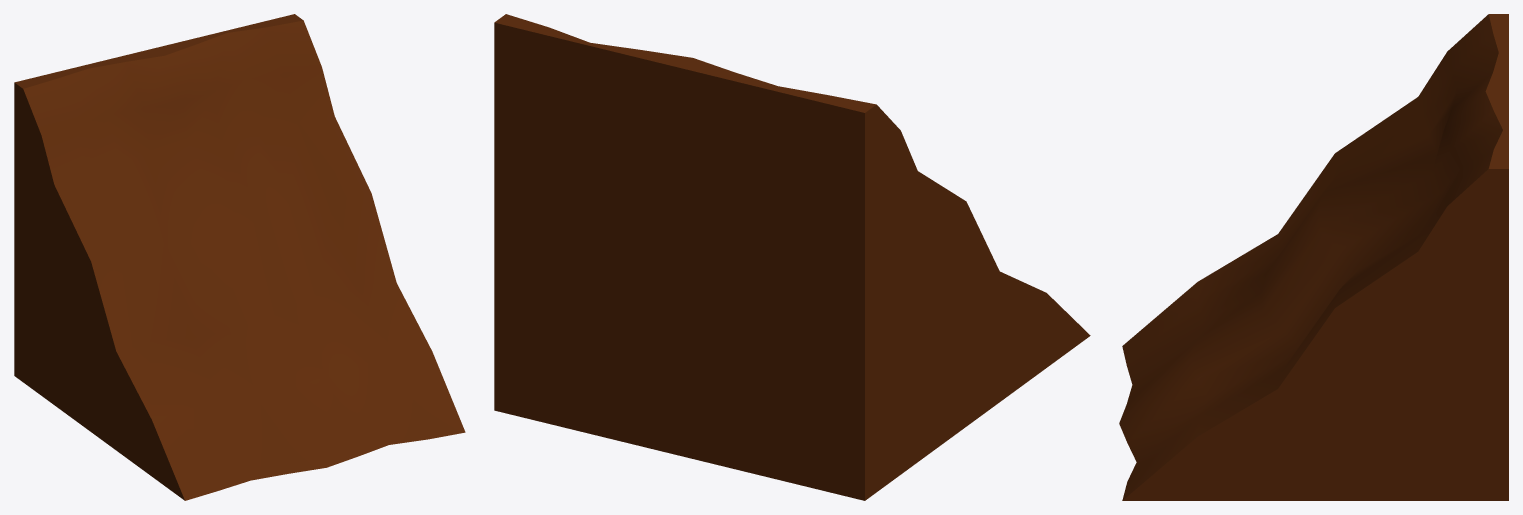
Rendered from mountain_middle.fbx.
3 views of the same model, side by side, from view 1: azimuth 30°, elevation 25°; view 2: azimuth 150°, elevation 25°; view 3: azimuth 270°, elevation 25° (orthographic). The views are drawn at different scales.
Visible parts, largest first — view 1: mount_middle.001; view 2: mount_middle.001; view 3: mount_middle.001.
Part boxes in pixels (x1,y1,x2,y2): mount_middle.001: [14, 14, 465, 500]; mount_middle.001: [494, 14, 1090, 500]; mount_middle.001: [1119, 14, 1508, 500].
Size of the model in its own units: 200 by 200 by 213.
